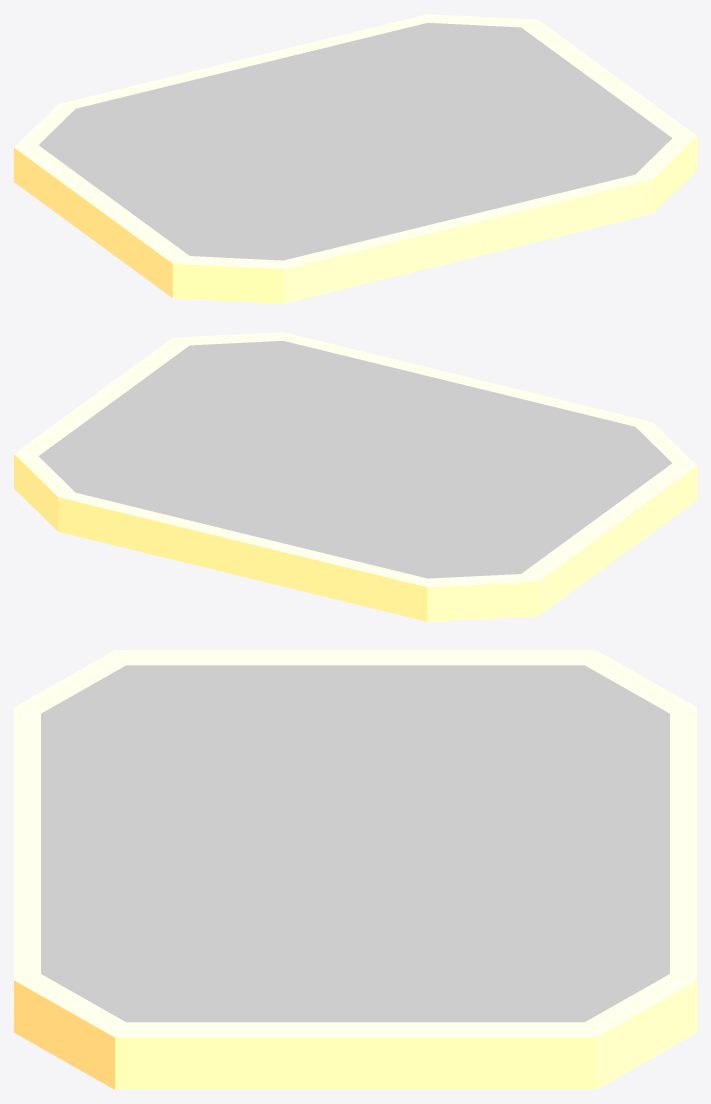
Rendered from platforme02.fbx.
The picture shows the model from 3 angles, top to bottom: view 1: azimuth 30°, elevation 25°; view 2: azimuth 150°, elevation 25°; view 3: azimuth 270°, elevation 25°; orthographic projection. The views are drawn at different scales.
Parts seen in each view (by area): view 1: Cube.011; view 2: Cube.011; view 3: Cube.011.
Boxes of the visible parts, <box> form: Cube.011: <box>14,14,696,303</box>; Cube.011: <box>14,332,696,621</box>; Cube.011: <box>14,650,696,1089</box>.
Bounding box in the file's own units: 190 × 11.99 × 142.
